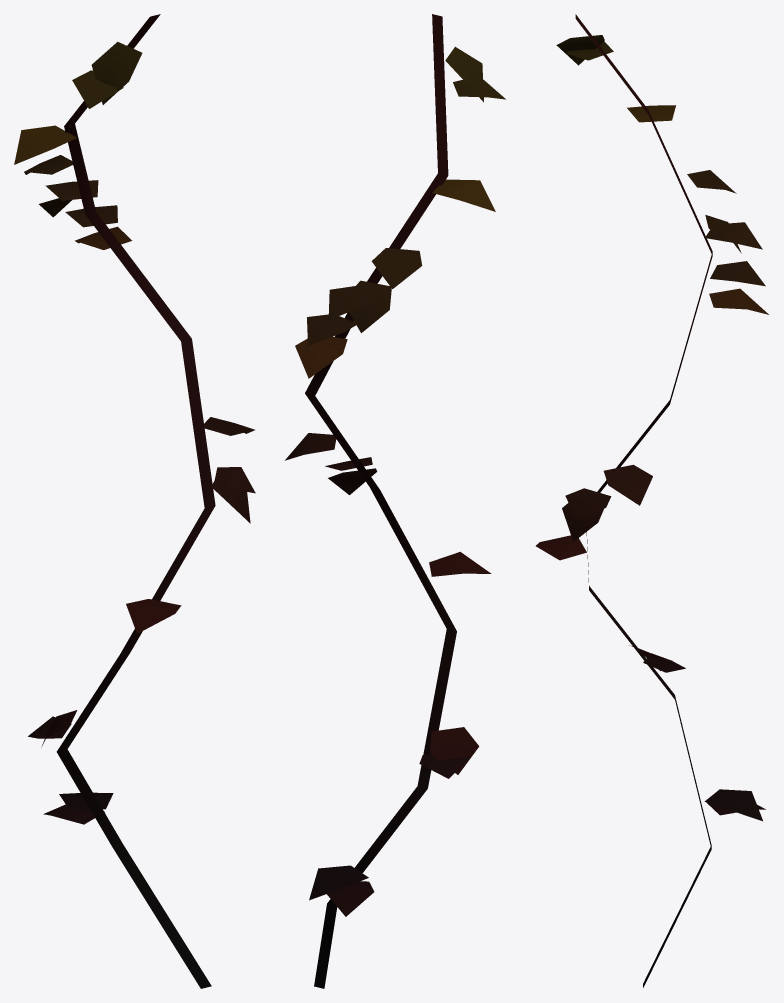
Rendered from trunk_vine_a.glb.
The picture shows the model from 3 angles, left to right: view 1: azimuth 30°, elevation 25°; view 2: azimuth 150°, elevation 25°; view 3: azimuth 270°, elevation 25°; orthographic projection. The views are drawn at different scales.
Parts seen in each view (by area): view 1: trunk_vine_a; view 2: trunk_vine_a; view 3: trunk_vine_a.
Boxes of the visible parts, left/top/right/bottom form: trunk_vine_a: left=14, top=14, right=255, bottom=988; trunk_vine_a: left=285, top=14, right=505, bottom=988; trunk_vine_a: left=536, top=14, right=768, bottom=987.
Size of the model in its own units: 0.7472 by 3.2 by 0.7296.
Materials: 1 (1 with a texture image).
